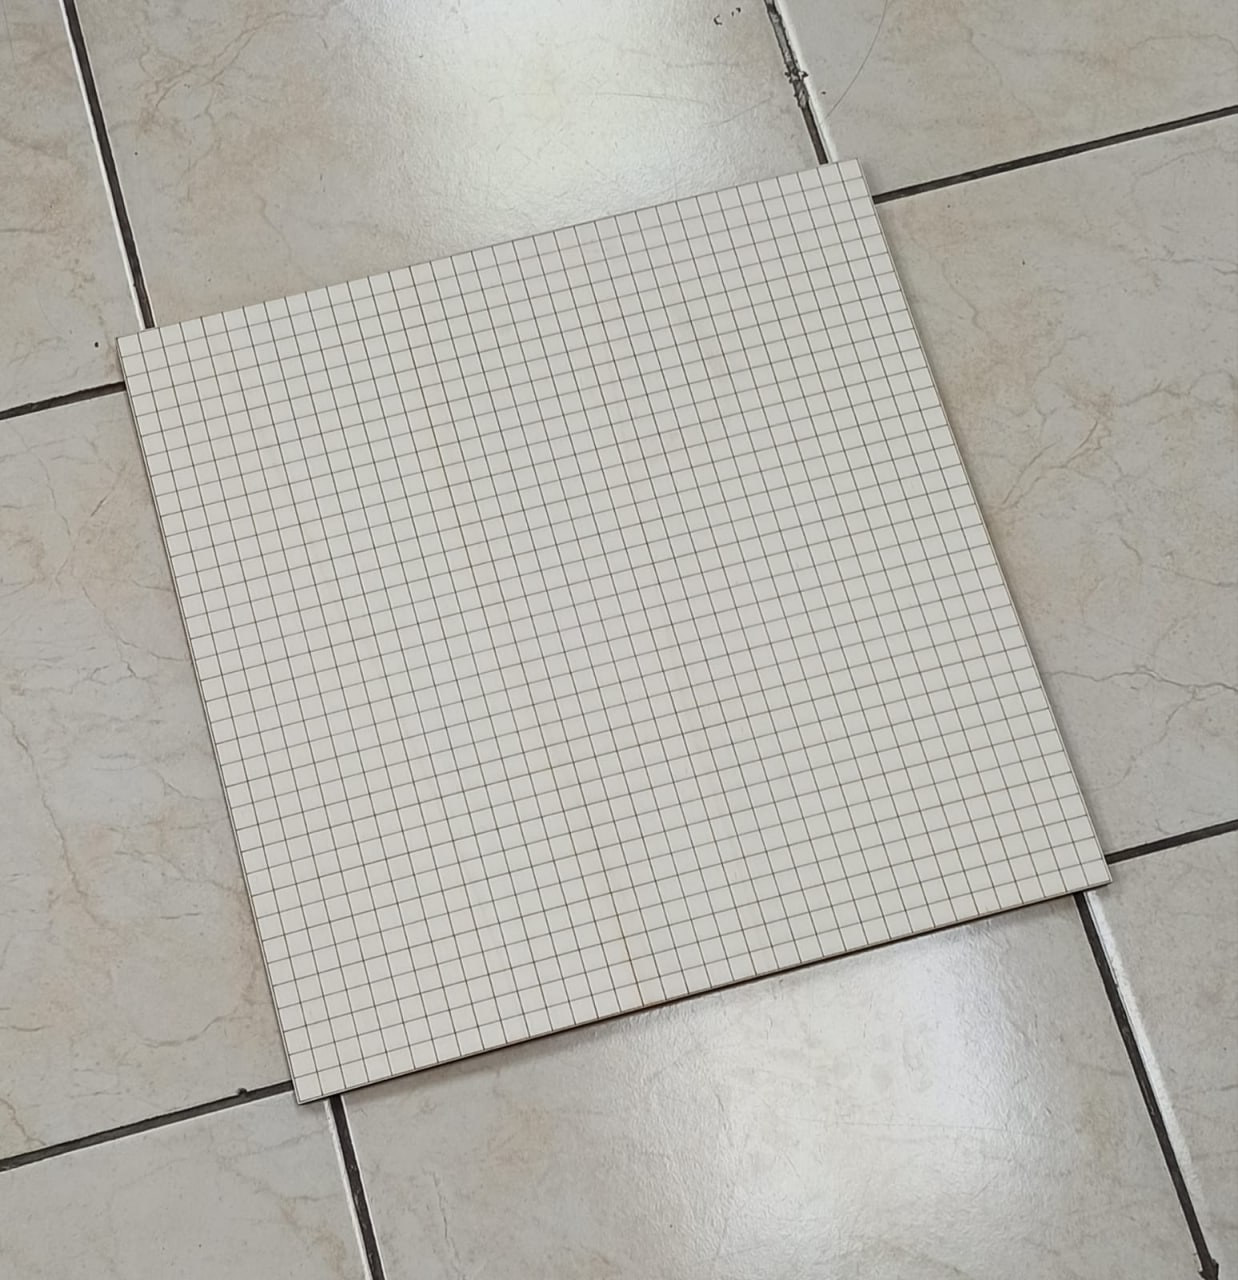grid: (106, 152, 1123, 1110)
